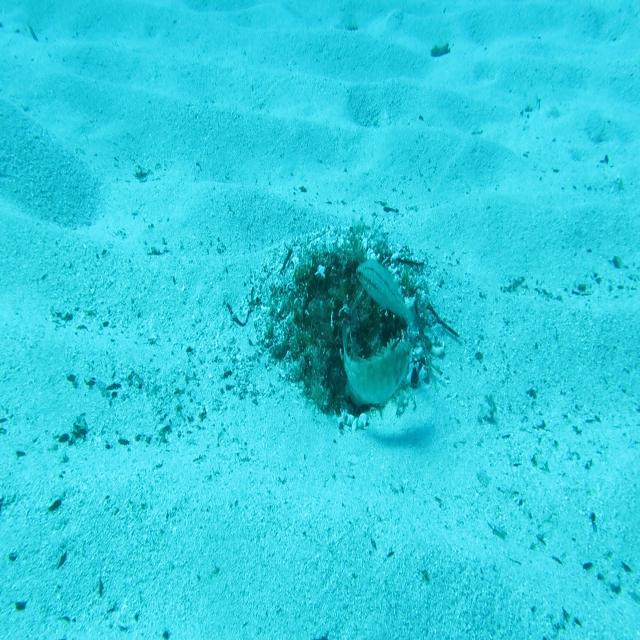BEND: (339, 316, 413, 414)
core_nest: (317, 257, 365, 314)
female: (354, 255, 421, 339)
nest: (238, 203, 458, 445)
vegetation: (428, 42, 452, 59)
